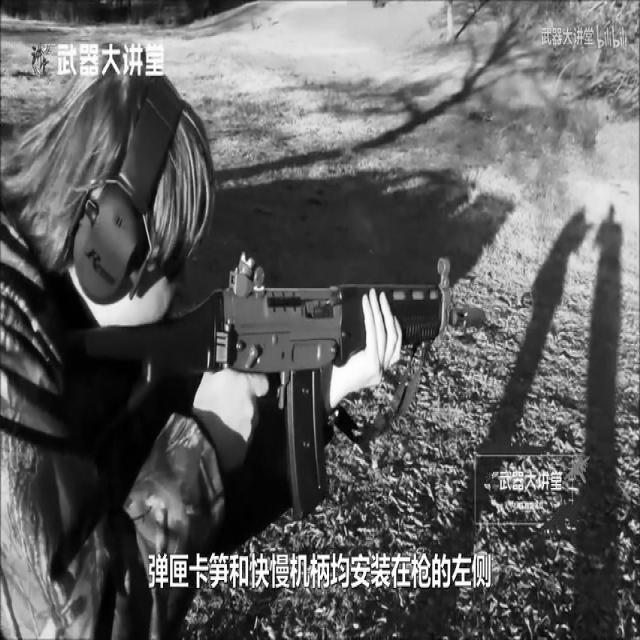Sub-machine-gun: (120, 222, 496, 554)
